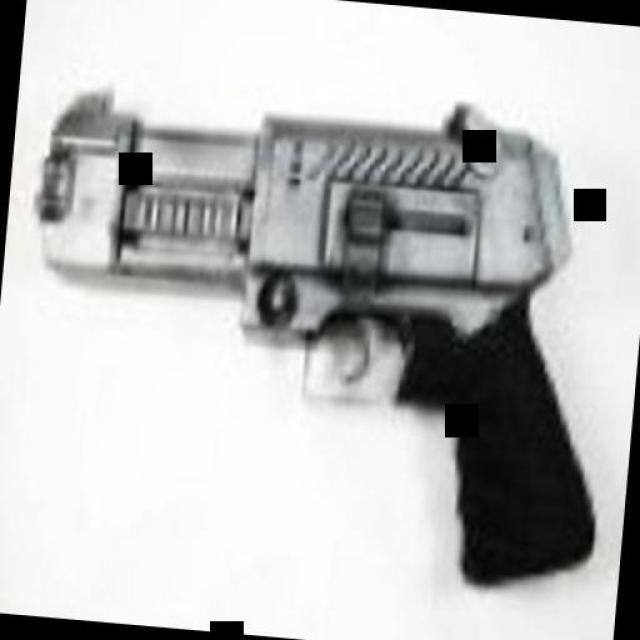gun: (10, 81, 632, 594)
